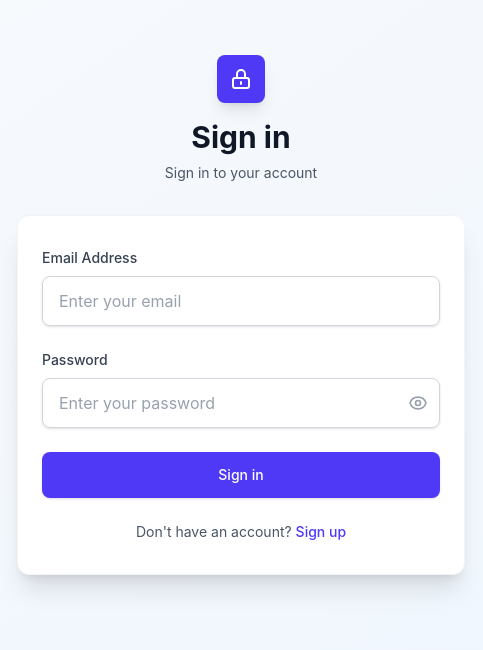
Scenario: LoginPage › shows error when form is submitted with empty fields
This screenshot has width=483, height=650.
Click the button "Sign in" at (241, 475), box [42,452,440,498]
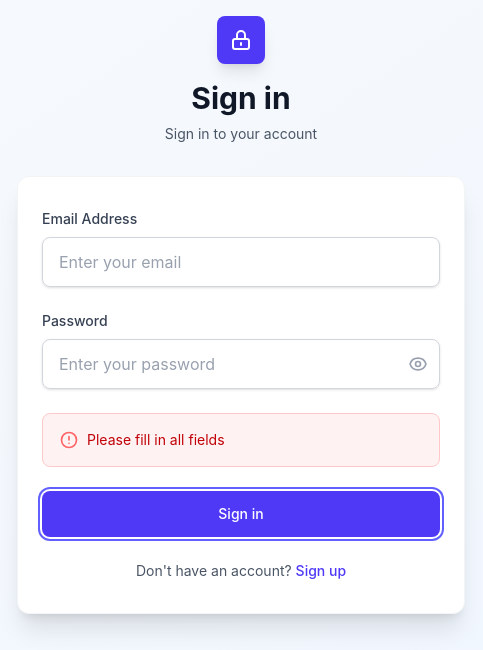
Result: the text "Please fill in all fields" is shown at [87,430,224,450]
